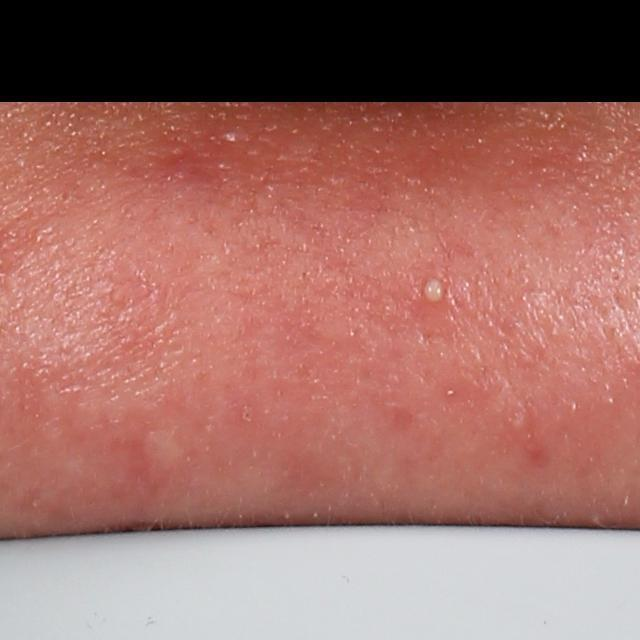hypertrophic_scar: (139, 428, 190, 490)
pustule: (418, 277, 443, 306)
